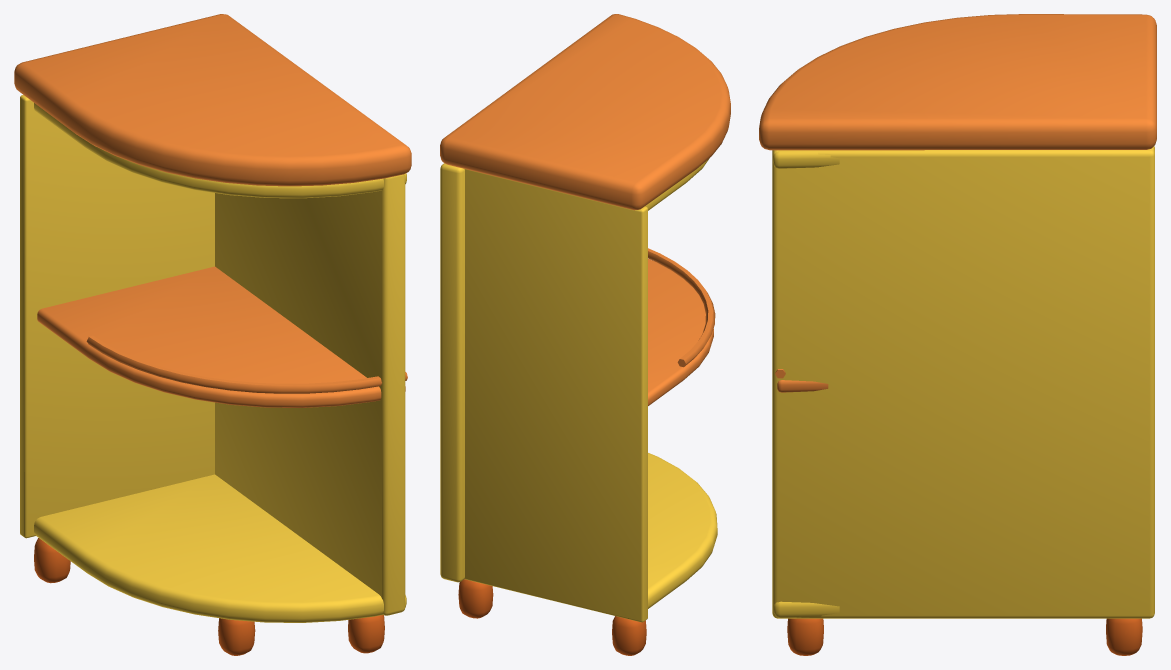
The model's file is armario_cozinha_ponta_curva_moderna.glb.
3 views of the same model, side by side, from view 1: azimuth 30°, elevation 25°; view 2: azimuth 150°, elevation 25°; view 3: azimuth 270°, elevation 25° (orthographic). The views are drawn at different scales.
Visible parts, largest first — view 1: armario_cozinha_ponta_curva_moderna; view 2: armario_cozinha_ponta_curva_moderna; view 3: armario_cozinha_ponta_curva_moderna.
Boxes of the visible parts, x1=… form: armario_cozinha_ponta_curva_moderna: x1=14, y1=14, x2=411, y2=655; armario_cozinha_ponta_curva_moderna: x1=440, y1=14, x2=730, y2=655; armario_cozinha_ponta_curva_moderna: x1=759, y1=14, x2=1156, y2=655.
Bounding box in the file's own units: 0.4009 × 0.9 × 0.597.
Materials: 1 (1 with a texture image).
